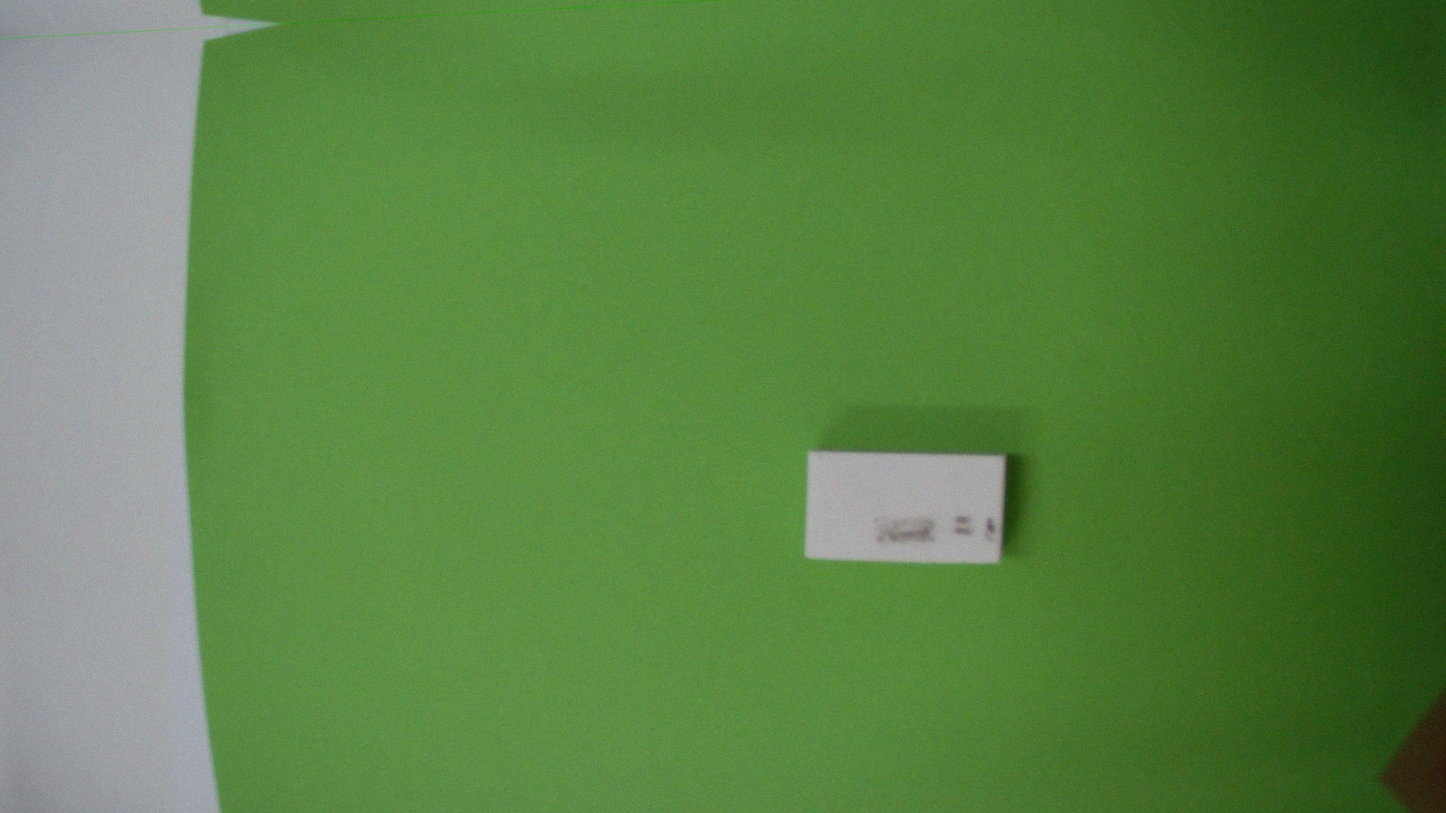gom: (798, 429, 1015, 586)
